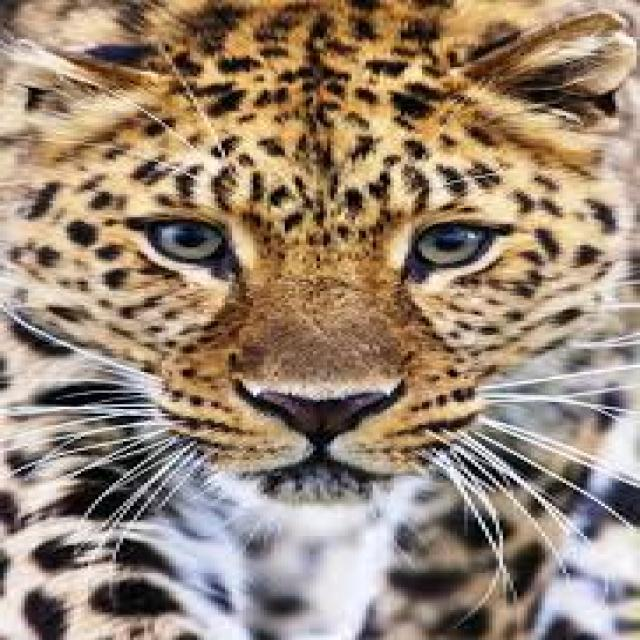Jaguar: (7, 0, 633, 628)
